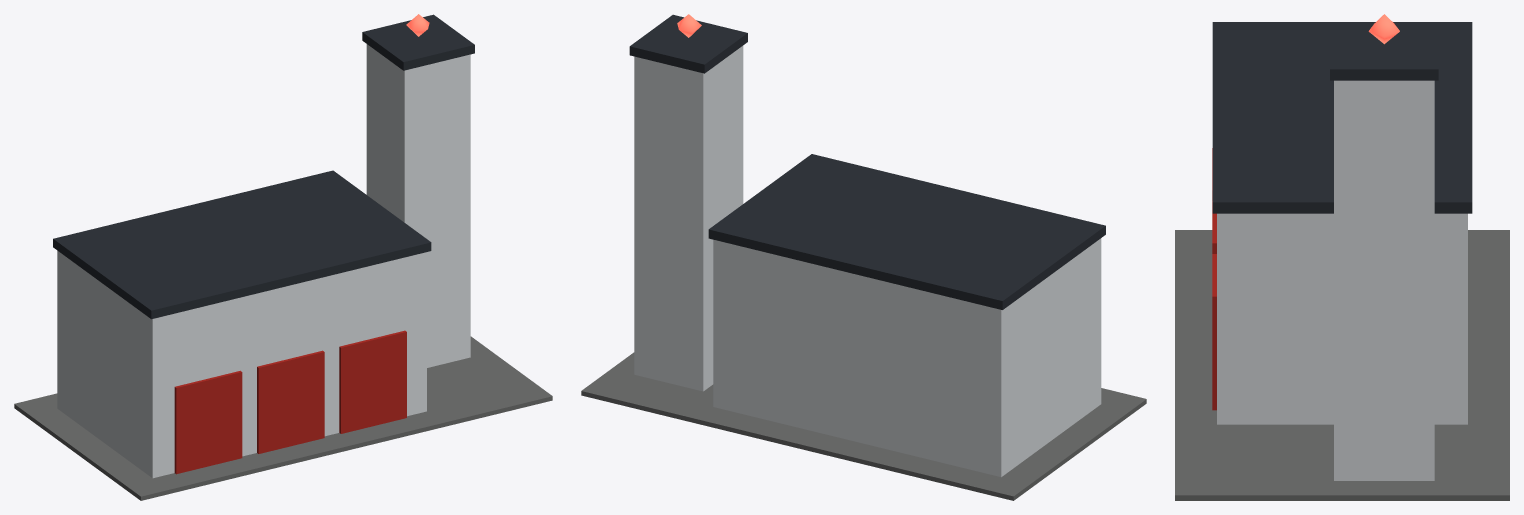
File: bld_special_fire_station_a08_lod2.glb
3 renders of one model, left to right at view 1: azimuth 30°, elevation 25°; view 2: azimuth 150°, elevation 25°; view 3: azimuth 270°, elevation 25°, orthographic. The views are drawn at different scales.
Visible parts, largest first — view 1: body; view 2: body; view 3: body.
Boxes of the visible parts, x1,y1,x2,y2 form: body: (14,14,552,500); body: (581,14,1146,500); body: (1175,14,1509,500).
Size of the model in its own units: 15 by 11.9 by 8.
